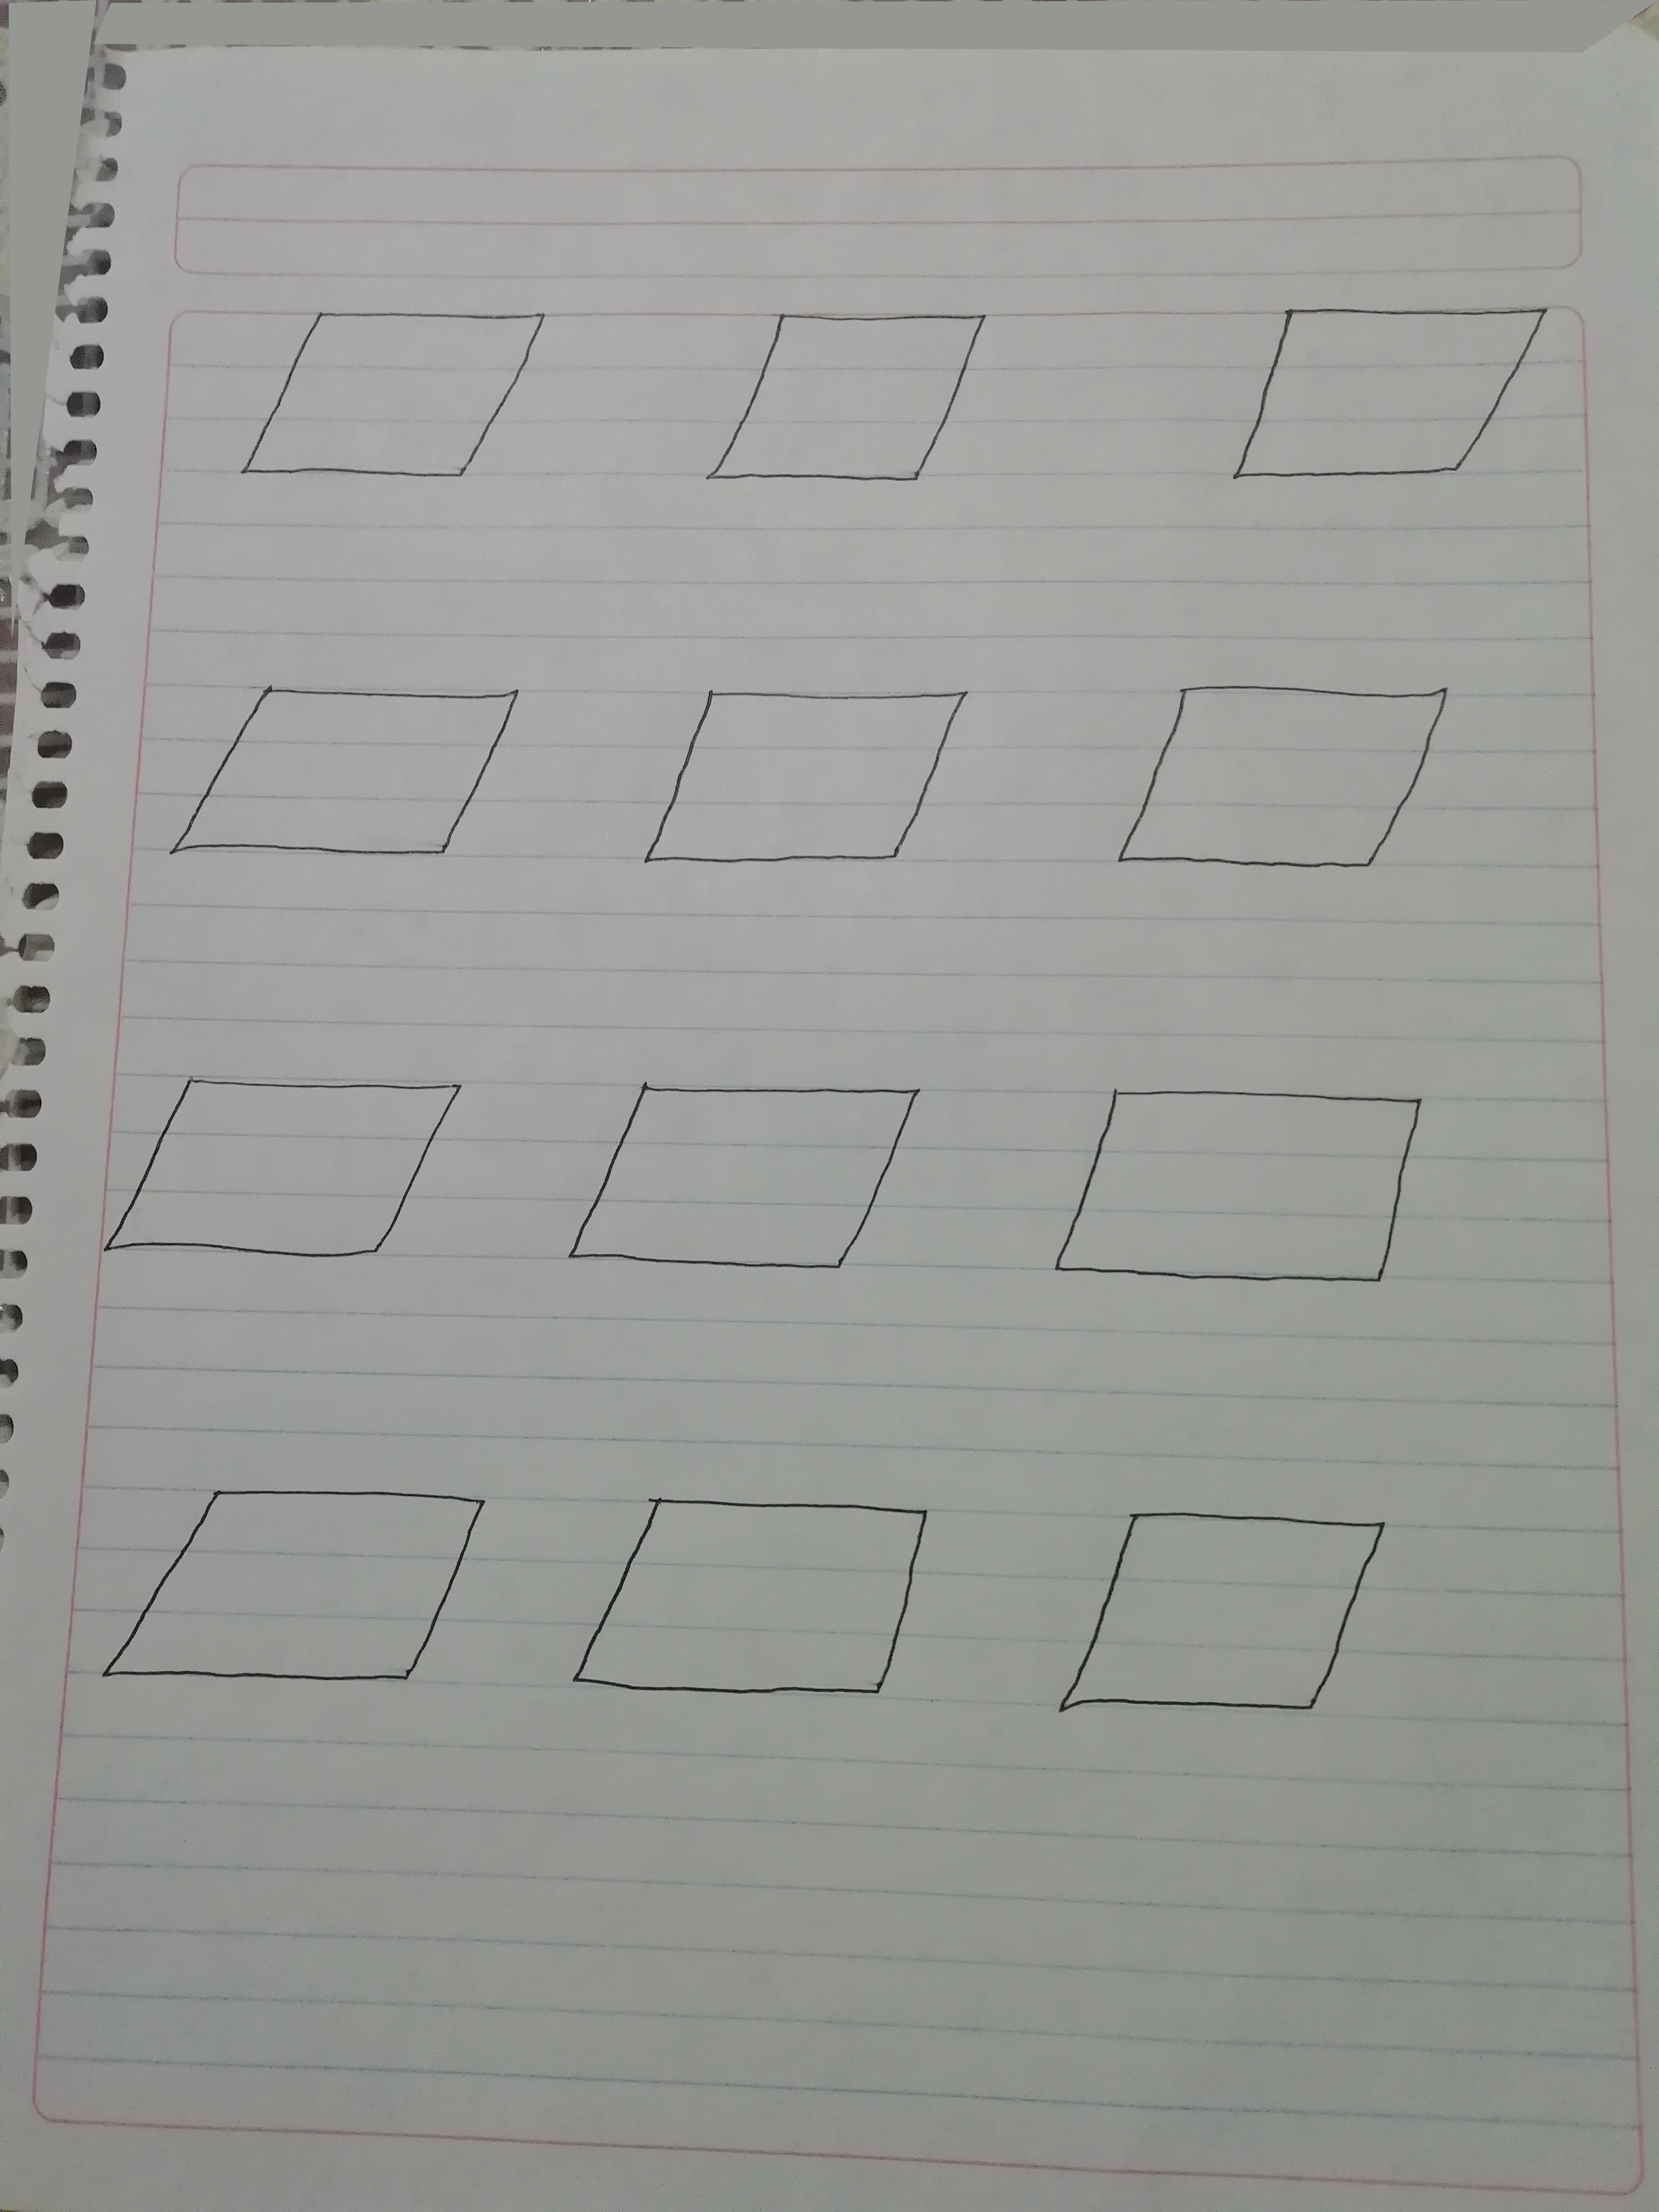scan: (80, 1439, 512, 1750), (540, 1055, 958, 1332), (540, 1479, 979, 1730), (1033, 1075, 1452, 1336), (1037, 1475, 1431, 1747), (59, 1049, 486, 1298), (146, 660, 565, 911), (197, 266, 575, 535), (626, 671, 1026, 921), (1103, 671, 1507, 914), (1208, 273, 1579, 531), (676, 291, 1037, 535)
